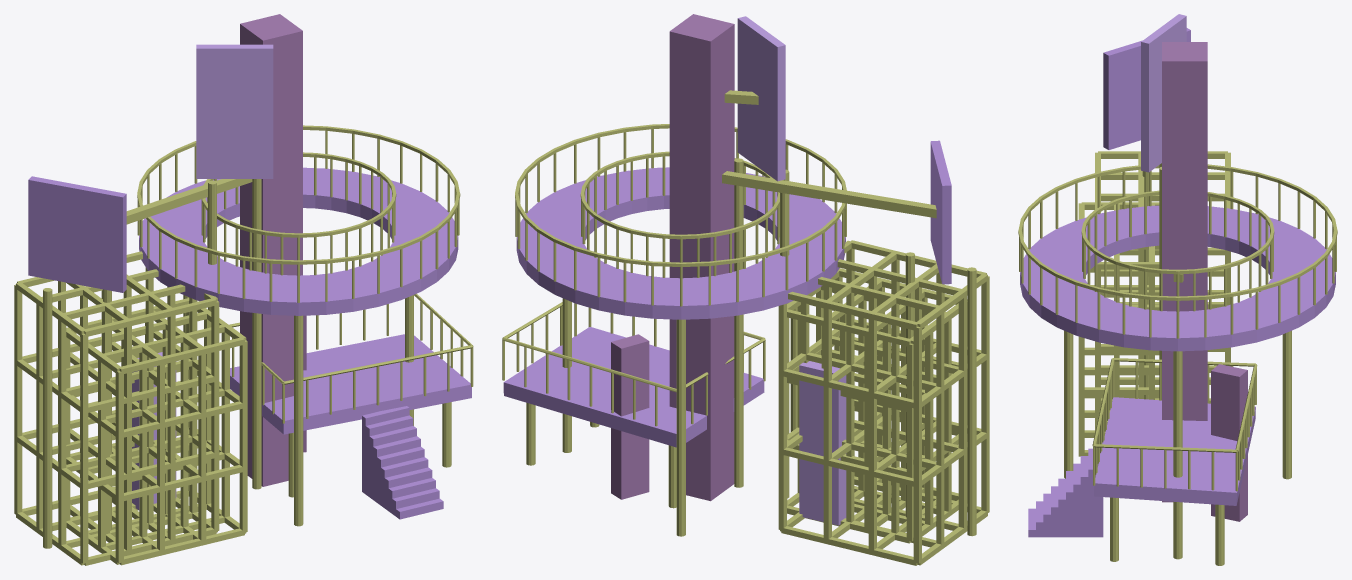
The model's file is folie_tag_089.glb.
3 renders of one model, left to right at view 1: azimuth 30°, elevation 25°; view 2: azimuth 150°, elevation 25°; view 3: azimuth 270°, elevation 25°, orthographic. The views are drawn at different scales.
Parts seen in each view (by area): view 1: folie_tag_089_01_cage, folie_tag_089_line, folie_tag_089_03_cage, folie_tag_089_00_ring, folie_tag_089_core, folie_tag_089_02_plate, folie_tag_089_05_panel, folie_tag_089_06_panel, folie_tag_089_stairs, folie_tag_089_04_fin; view 2: folie_tag_089_01_cage, folie_tag_089_line, folie_tag_089_core, folie_tag_089_00_ring, folie_tag_089_03_cage, folie_tag_089_02_plate, folie_tag_089_05_panel, folie_tag_089_04_fin, folie_tag_089_07_fin, folie_tag_089_06_panel; view 3: folie_tag_089_line, folie_tag_089_00_ring, folie_tag_089_core, folie_tag_089_02_plate, folie_tag_089_01_cage, folie_tag_089_stairs, folie_tag_089_03_cage, folie_tag_089_06_panel, folie_tag_089_05_panel, folie_tag_089_07_fin.
Boxes of the visible parts, bbox=[...] form: folie_tag_089_01_cage: bbox=[14, 251, 219, 565]; folie_tag_089_line: bbox=[43, 125, 473, 548]; folie_tag_089_03_cage: bbox=[66, 298, 247, 565]; folie_tag_089_00_ring: bbox=[139, 167, 458, 315]; folie_tag_089_core: bbox=[240, 14, 302, 486]; folie_tag_089_02_plate: bbox=[230, 334, 471, 434]; folie_tag_089_05_panel: bbox=[196, 44, 273, 178]; folie_tag_089_06_panel: bbox=[28, 176, 126, 292]; folie_tag_089_stairs: bbox=[362, 406, 443, 519]; folie_tag_089_04_fin: bbox=[132, 352, 176, 509]; folie_tag_089_01_cage: bbox=[778, 240, 989, 565]; folie_tag_089_line: bbox=[502, 90, 976, 536]; folie_tag_089_core: bbox=[669, 14, 734, 501]; folie_tag_089_00_ring: bbox=[516, 167, 845, 319]; folie_tag_089_03_cage: bbox=[787, 268, 967, 543]; folie_tag_089_02_plate: bbox=[503, 327, 764, 447]; folie_tag_089_05_panel: bbox=[737, 16, 785, 181]; folie_tag_089_04_fin: bbox=[799, 361, 846, 525]; folie_tag_089_07_fin: bbox=[611, 334, 649, 499]; folie_tag_089_06_panel: bbox=[930, 140, 951, 284]; folie_tag_089_line: bbox=[1018, 163, 1337, 565]; folie_tag_089_00_ring: bbox=[1020, 205, 1335, 351]; folie_tag_089_core: bbox=[1162, 42, 1207, 502]; folie_tag_089_02_plate: bbox=[1094, 397, 1255, 505]; folie_tag_089_01_cage: bbox=[1095, 151, 1230, 432]; folie_tag_089_stairs: bbox=[1028, 442, 1103, 537]; folie_tag_089_03_cage: bbox=[1078, 202, 1159, 456]; folie_tag_089_06_panel: bbox=[1103, 28, 1190, 149]; folie_tag_089_05_panel: bbox=[1141, 14, 1186, 172]; folie_tag_089_07_fin: bbox=[1211, 364, 1247, 521].
Bounding box in the file's own units: 11.38 × 11.78 × 7.68.
